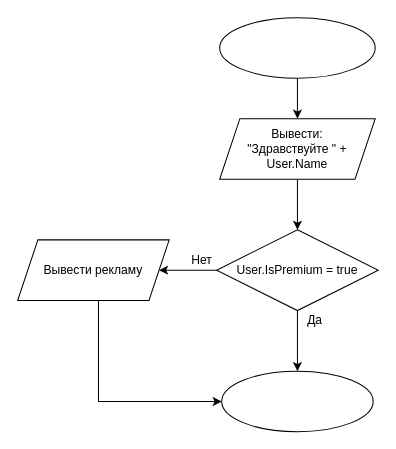
The diagram is 396 pixels wide and 449 high, and some of its shapes have lost their labels. The centre of each missing label's shape, as x and y in pixels:
Конец: the point at 297,401
Начало: the point at 297,47
